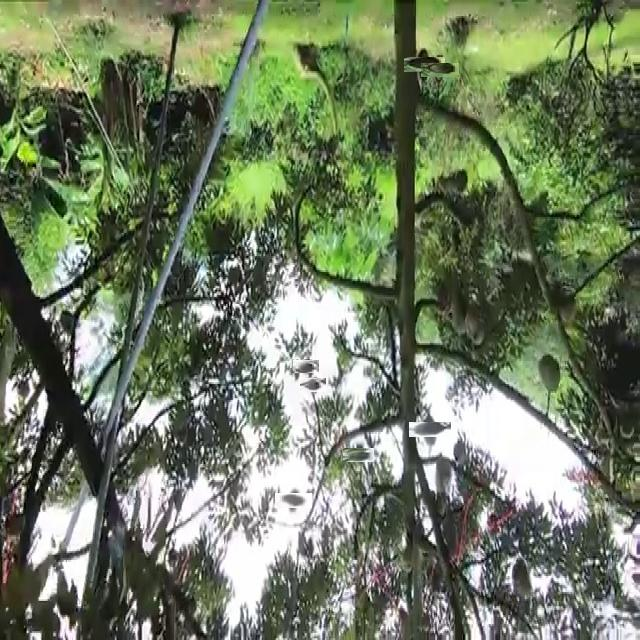durian: (460, 300, 490, 346), (536, 346, 562, 395), (431, 454, 456, 500), (416, 416, 445, 444), (411, 50, 439, 79), (281, 487, 307, 514), (427, 57, 454, 83), (347, 444, 370, 467), (303, 375, 324, 395), (296, 357, 316, 377)
